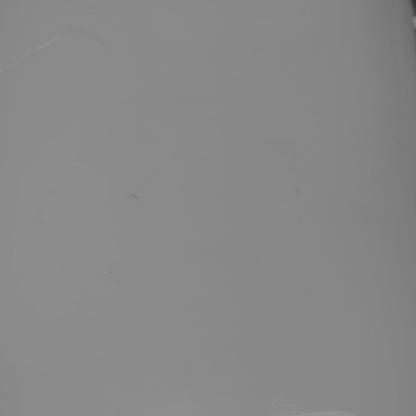sunshang: (1, 32, 68, 74)
